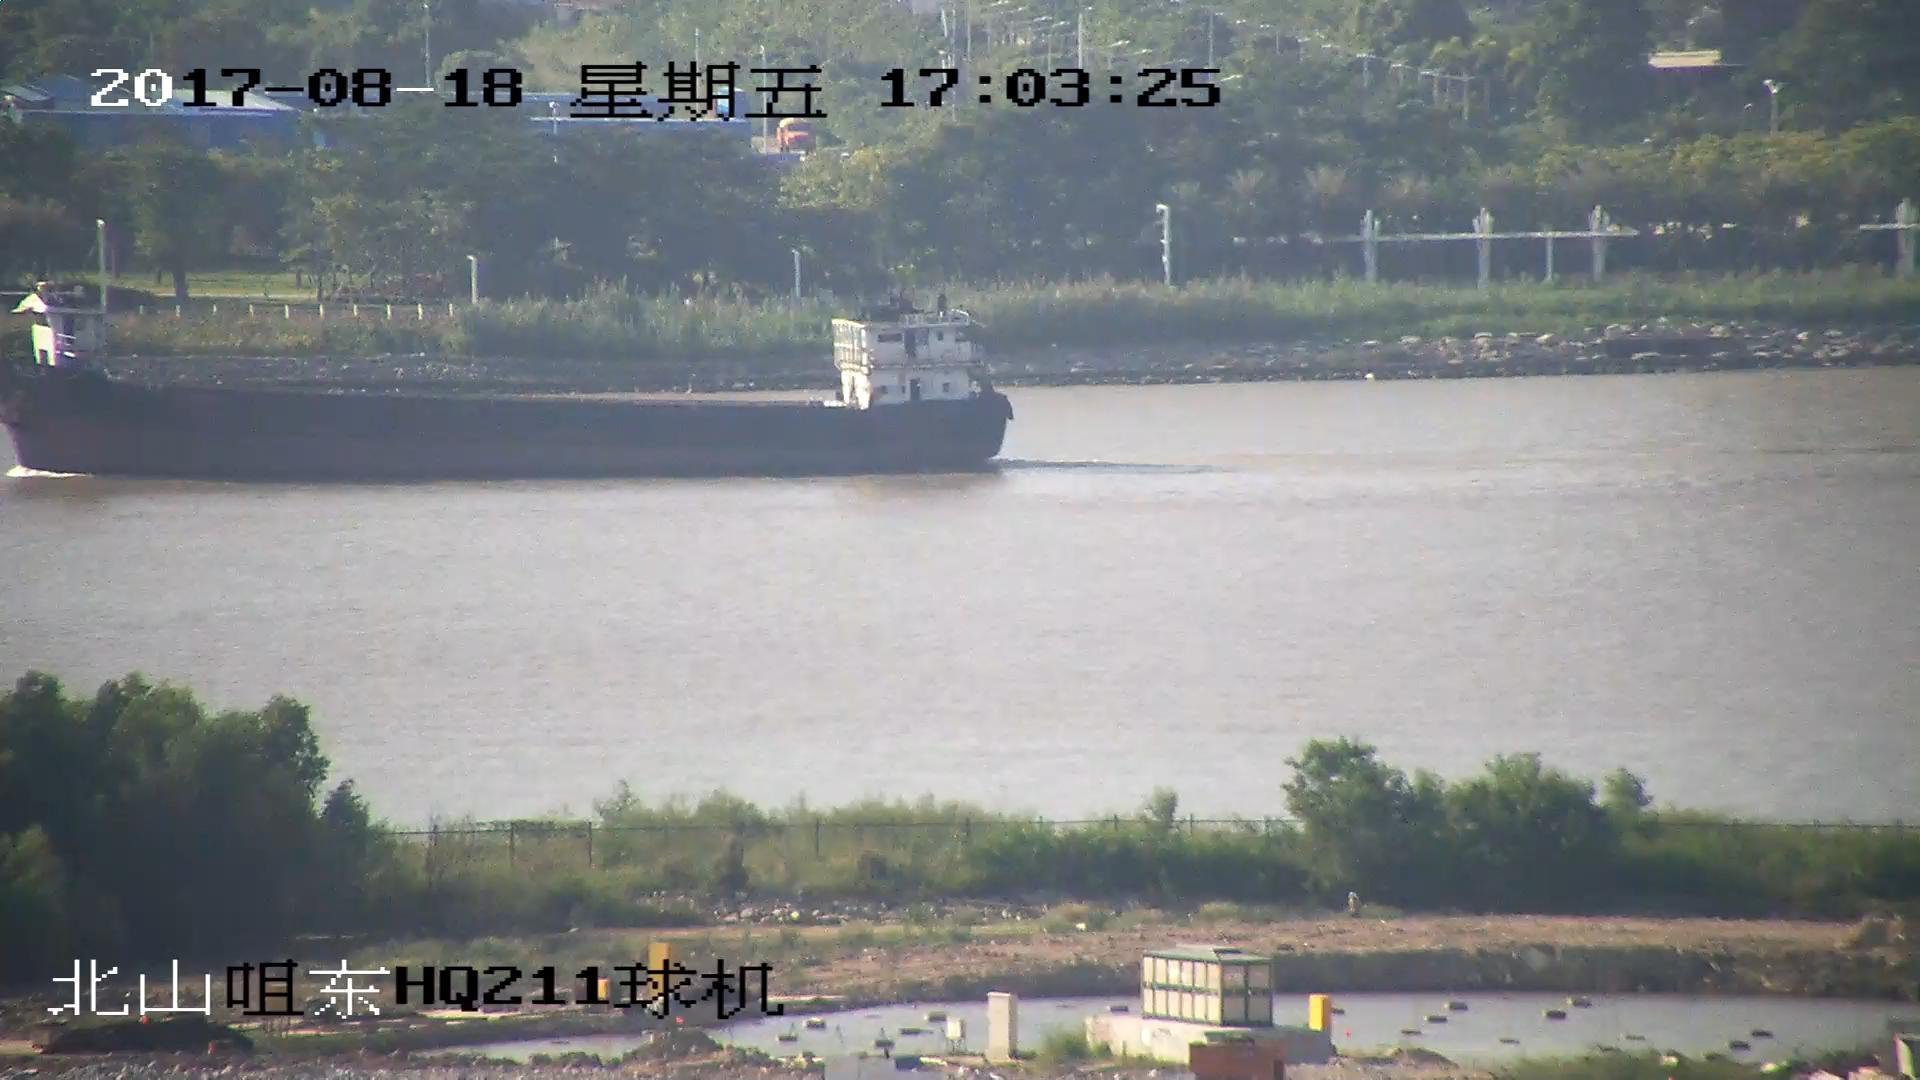Ship: (3, 295, 1021, 477)
